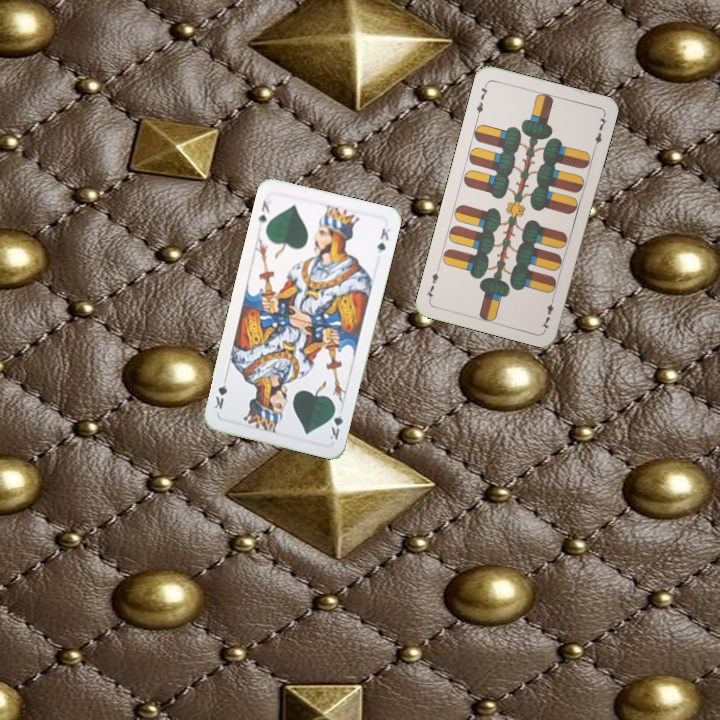E7: (538, 292, 558, 332), (472, 79, 491, 119)
GK: (325, 403, 346, 442), (254, 196, 272, 228)
